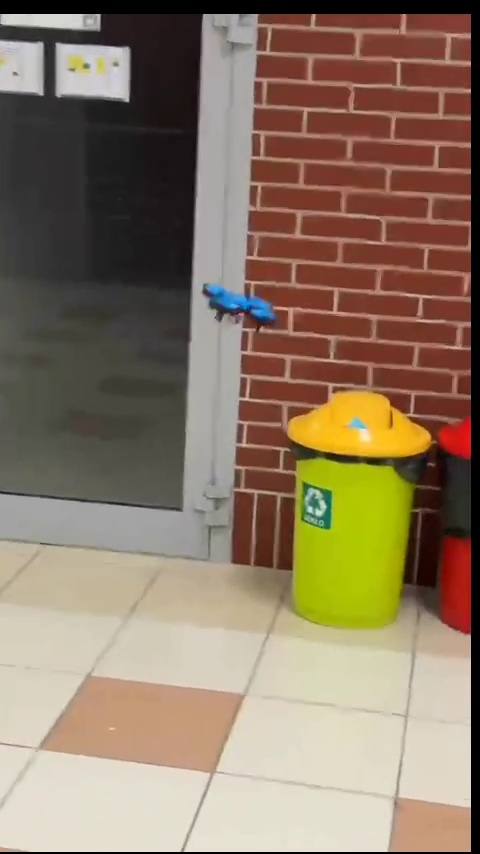drone: (201, 285, 278, 329)
